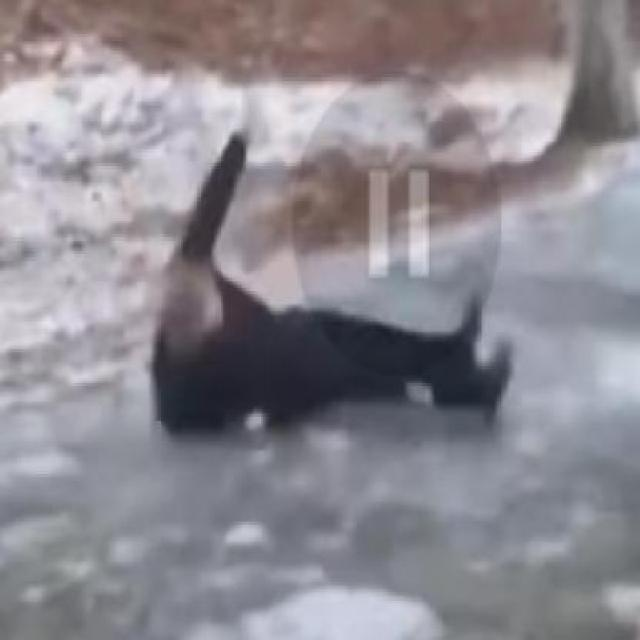fall: (145, 109, 508, 460)
